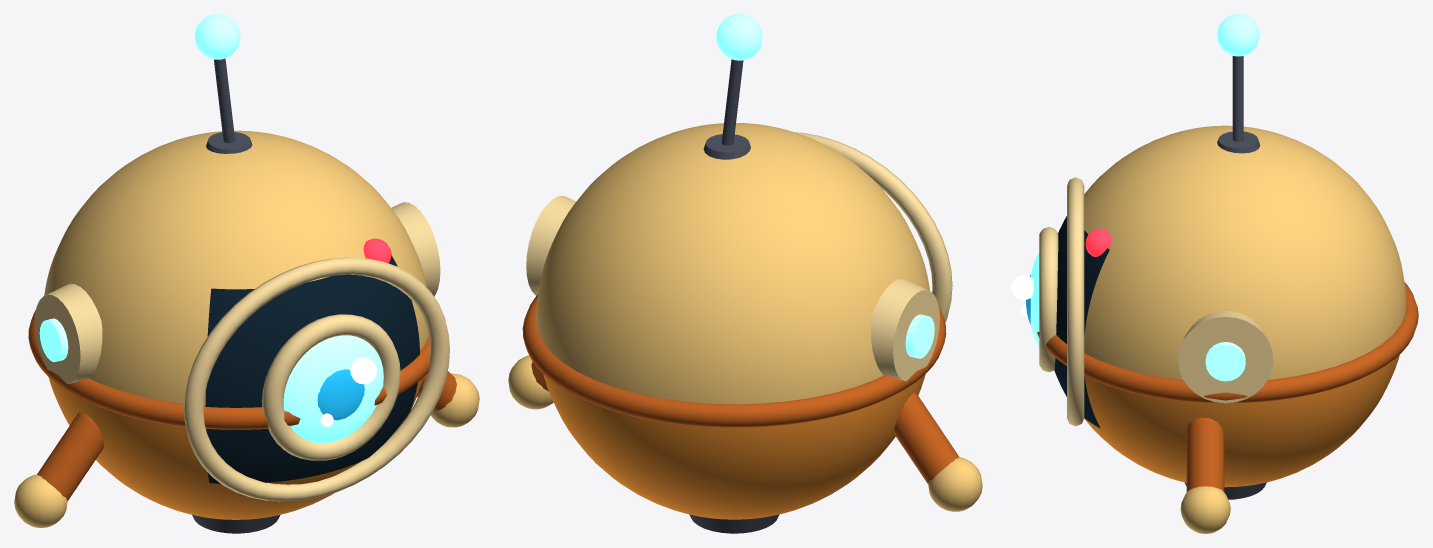
File: paulo.glb
The picture shows the model from 3 angles, left to right: view 1: azimuth 30°, elevation 25°; view 2: azimuth 150°, elevation 25°; view 3: azimuth 270°, elevation 25°; orthographic projection. The views are drawn at different scales.
Parts seen in each view (by area): view 1: dome, visor, visor_rim, shell, eye_ring, eye, seam, earR, armR_mesh, handR, earL, iris (+8 smaller); view 2: dome, shell, seam, earR, visor_rim, armR_mesh, handR, earL, antenna_tip, handL, thruster, antenna_rod (+2 smaller); view 3: dome, shell, seam, earL, visor_rim, armL_mesh, visor, eye_ring, handL, antenna_tip, earL_dot, antenna_rod (+3 smaller).
Boxes of the visible parts, bbox=[...] form: dome: bbox=[44, 130, 428, 405]; visor: bbox=[205, 255, 419, 483]; visor_rim: bbox=[184, 257, 449, 501]; shell: bbox=[48, 377, 423, 519]; eye_ring: bbox=[262, 314, 400, 460]; eye: bbox=[283, 335, 383, 443]; seam: bbox=[28, 310, 430, 429]; earR: bbox=[34, 283, 102, 384]; armR_mesh: bbox=[37, 412, 103, 500]; handR: bbox=[14, 474, 67, 527]; earL: bbox=[391, 202, 440, 296]; iris: bbox=[317, 369, 364, 420]; dome: bbox=[536, 123, 929, 404]; shell: bbox=[543, 374, 925, 519]; seam: bbox=[522, 294, 946, 427]; earR: bbox=[870, 279, 939, 381]; visor_rim: bbox=[796, 132, 952, 322]; armR_mesh: bbox=[893, 392, 959, 483]; handR: bbox=[928, 457, 982, 511]; earL: bbox=[526, 195, 576, 295]; antenna_tip: bbox=[716, 14, 762, 60]; handL: bbox=[508, 355, 553, 409]; thruster: bbox=[689, 514, 779, 533]; antenna_rod: bbox=[721, 59, 743, 145]; dome: bbox=[1084, 125, 1406, 379]; shell: bbox=[1084, 354, 1399, 487]; seam: bbox=[1037, 282, 1418, 403]; earL: bbox=[1178, 310, 1273, 403]; visor_rim: bbox=[1067, 177, 1084, 426]; armL_mesh: bbox=[1186, 417, 1224, 492]; visor: bbox=[1054, 216, 1109, 428]; eye_ring: bbox=[1039, 227, 1058, 372]; handL: bbox=[1180, 486, 1230, 533]; antenna_tip: bbox=[1217, 14, 1259, 56]; earL_dot: bbox=[1205, 342, 1245, 381]; antenna_rod: bbox=[1232, 56, 1243, 141].
Bounding box in the file's own units: 1.96 × 2.05 × 1.62.
